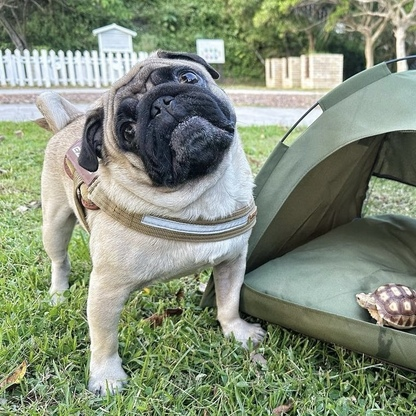Pug: (30, 46, 274, 397)
